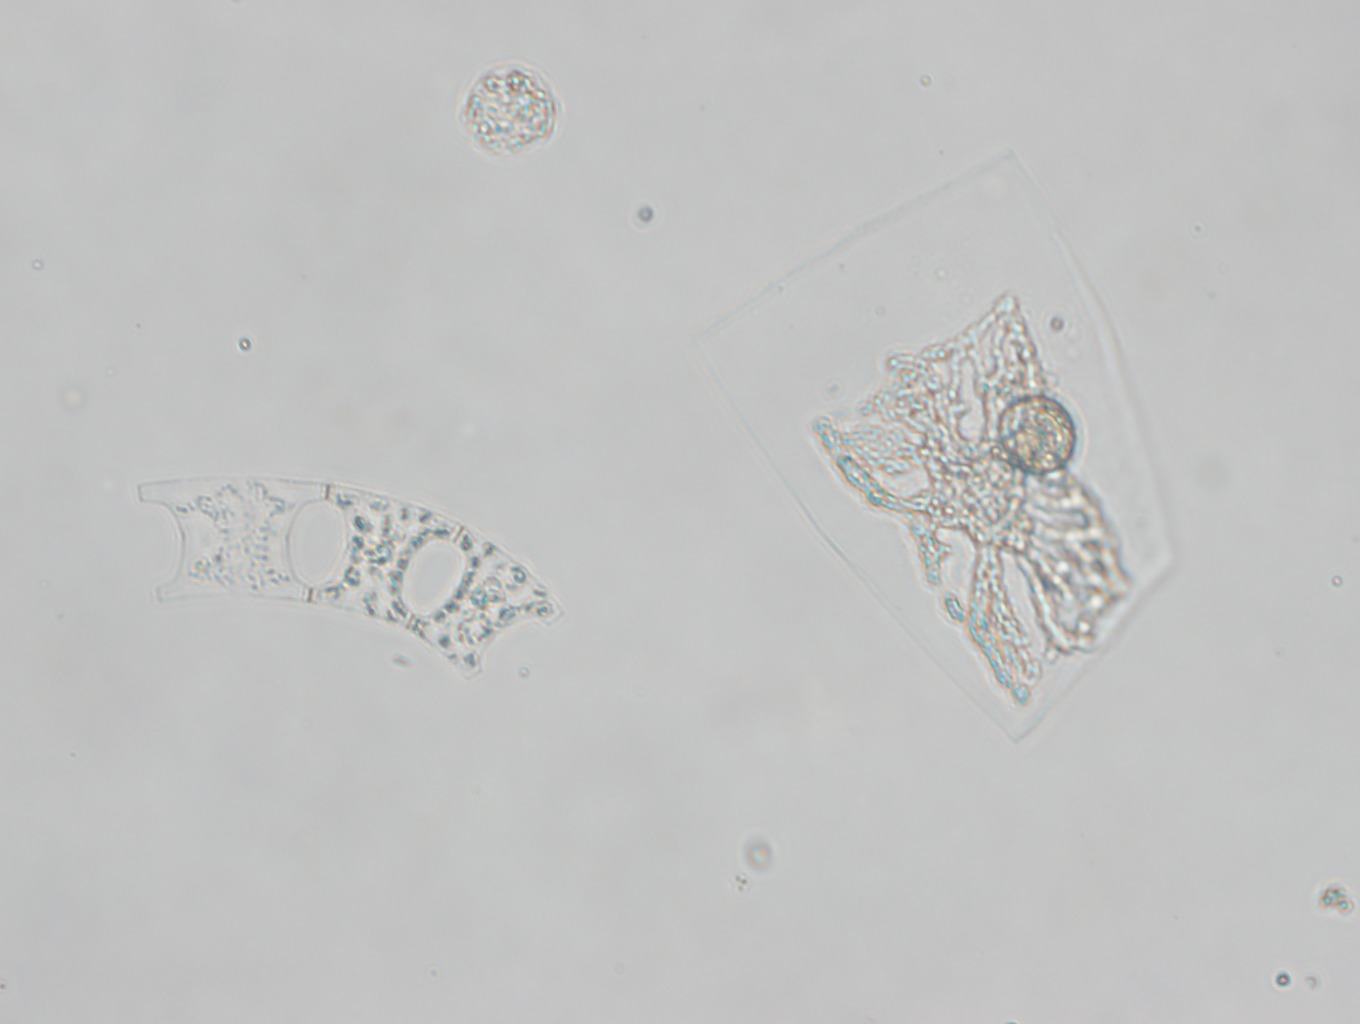coscinodiscus: (460, 61, 561, 165)
eucampia: (135, 480, 570, 685)
helicotheca: (696, 142, 1182, 746)
